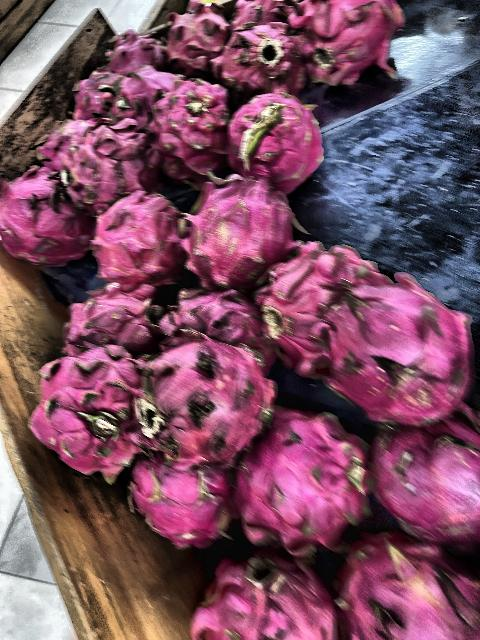buah-naga-belum-matang: (175, 170, 289, 280)
buah-naga-matang: (322, 281, 470, 419), (140, 332, 280, 466), (242, 410, 364, 550), (366, 412, 480, 548), (32, 366, 162, 474), (338, 552, 480, 640), (192, 554, 332, 640), (255, 247, 354, 363), (114, 448, 236, 542), (215, 88, 325, 192), (81, 190, 179, 292), (286, 0, 400, 74), (48, 133, 160, 201), (160, 293, 266, 355), (138, 87, 216, 169), (217, 28, 303, 98), (60, 288, 154, 350), (158, 13, 230, 67)
